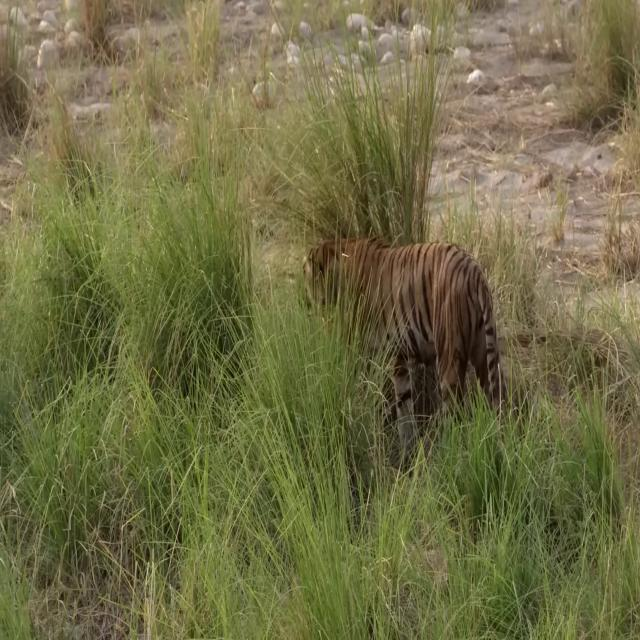tiger: (301, 236, 508, 466)
